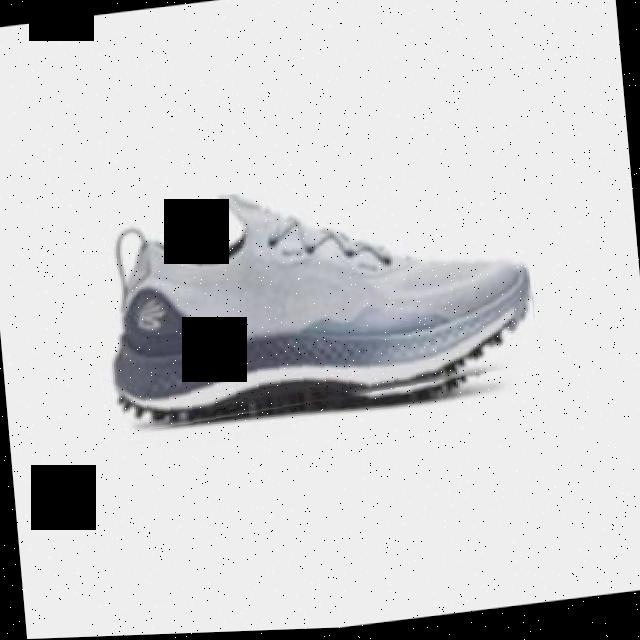shoe: (95, 161, 539, 436)
